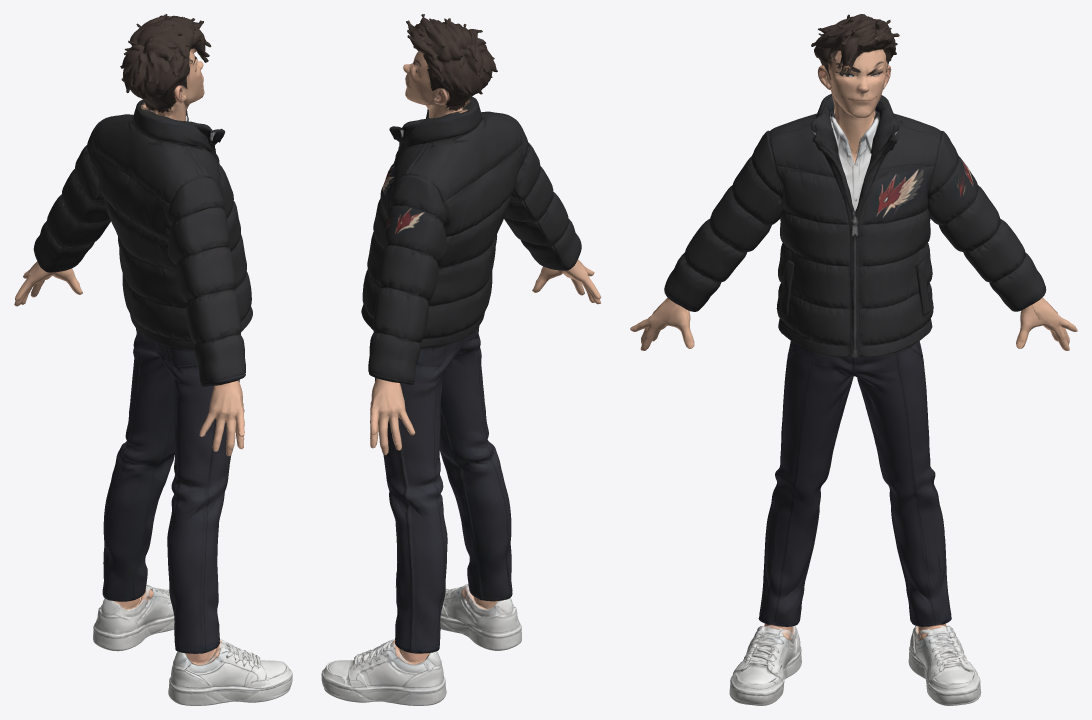
File: minjae_tripo.glb
3 renders of one model, left to right at view 1: azimuth 30°, elevation 25°; view 2: azimuth 150°, elevation 25°; view 3: azimuth 270°, elevation 25°, orthographic. The views are drawn at different scales.
Parts seen in each view (by area): view 1: tripo_node_6c6ff5d4-b250-4eb0-93a7-acf563a45cd7; view 2: tripo_node_6c6ff5d4-b250-4eb0-93a7-acf563a45cd7; view 3: tripo_node_6c6ff5d4-b250-4eb0-93a7-acf563a45cd7.
Boxes of the visible parts, x1,y1,x2,y2 form: tripo_node_6c6ff5d4-b250-4eb0-93a7-acf563a45cd7: (14,14,292,705); tripo_node_6c6ff5d4-b250-4eb0-93a7-acf563a45cd7: (321,14,601,705); tripo_node_6c6ff5d4-b250-4eb0-93a7-acf563a45cd7: (630,14,1077,705).
Size of the model in its own units: 0.2173 by 0.9788 by 0.6043.
1 material, 1 textured.
